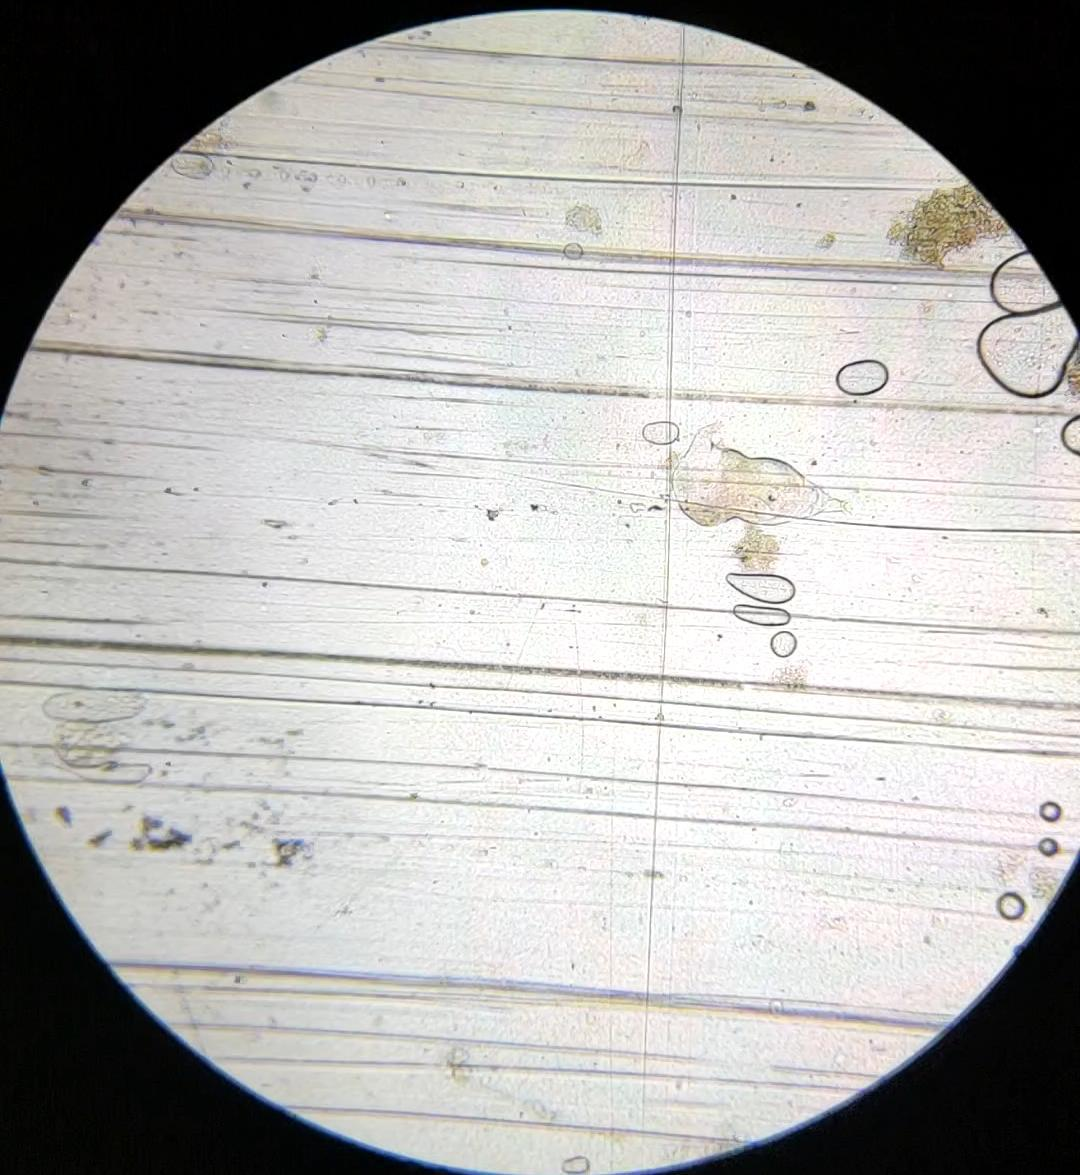Do: (673, 419, 857, 526)
